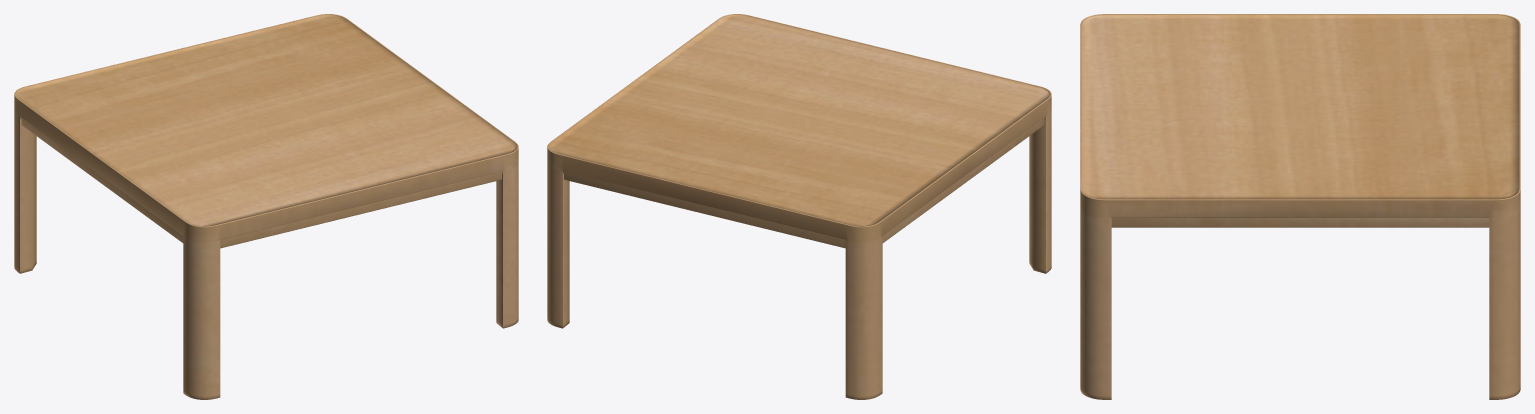
Rendered from table.gltf.
3 renders of one model, left to right at view 1: azimuth 30°, elevation 25°; view 2: azimuth 150°, elevation 25°; view 3: azimuth 270°, elevation 25°, orthographic. The views are drawn at different scales.
Visible parts, largest first — view 1: Cube, Cube.002; view 2: Cube, Cube.002; view 3: Cube, Cube.002.
Part boxes in pixels (<box>): Cube: <box>14,14,518,399</box>; Cube.002: <box>21,118,501,248</box>; Cube: <box>547,14,1051,399</box>; Cube.002: <box>564,118,1044,248</box>; Cube: <box>1080,14,1520,399</box>; Cube.002: <box>1111,218,1489,227</box>.
Size of the model in its own units: 0.7 by 0.351 by 0.7.
1 material, 1 textured.
